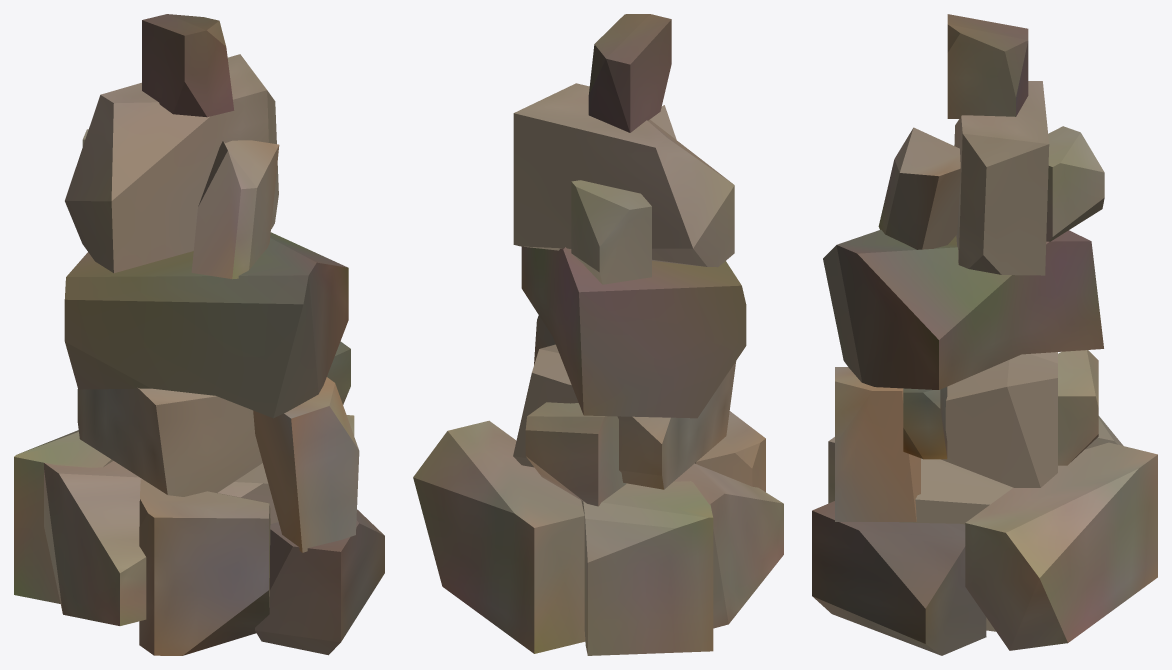
File: mega-pack-cube-226.glb
3 views of the same model, side by side, from view 1: azimuth 30°, elevation 25°; view 2: azimuth 150°, elevation 25°; view 3: azimuth 270°, elevation 25° (orthographic). The views are drawn at different scales.
Parts seen in each view (by area): view 1: Cube.226; view 2: Cube.226; view 3: Cube.226.
Part boxes in pixels (x1,y1,x2,y2): Cube.226: [14, 14, 384, 655]; Cube.226: [413, 14, 783, 655]; Cube.226: [812, 14, 1157, 655].
Size of the model in its own units: 0.75 by 1.31 by 0.7316.
1 material, 1 textured.
